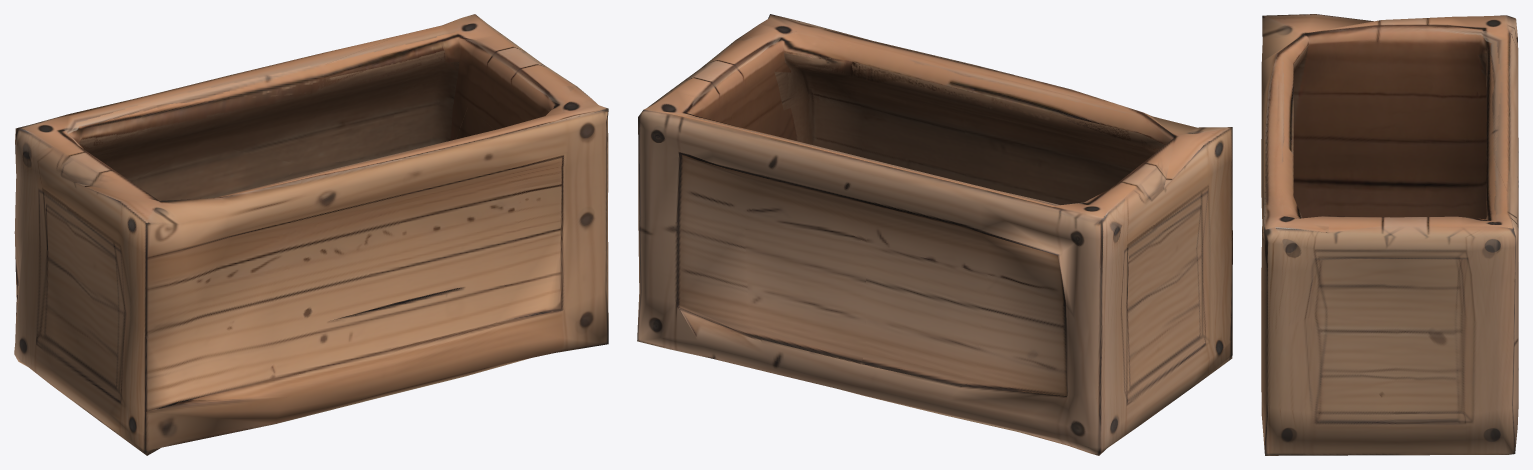
File: Crate.fbx
3 renders of one model, left to right at view 1: azimuth 30°, elevation 25°; view 2: azimuth 150°, elevation 25°; view 3: azimuth 270°, elevation 25°, orthographic. The views are drawn at different scales.
Visible parts, largest first — view 1: input; view 2: input; view 3: input.
Part boxes in pixels (bbox=[...]): input: bbox=[14, 14, 608, 455]; input: bbox=[637, 14, 1232, 455]; input: bbox=[1261, 14, 1518, 455].
Size of the model in its own units: 188 by 91.26 by 93.67.
1 material, 1 textured.
